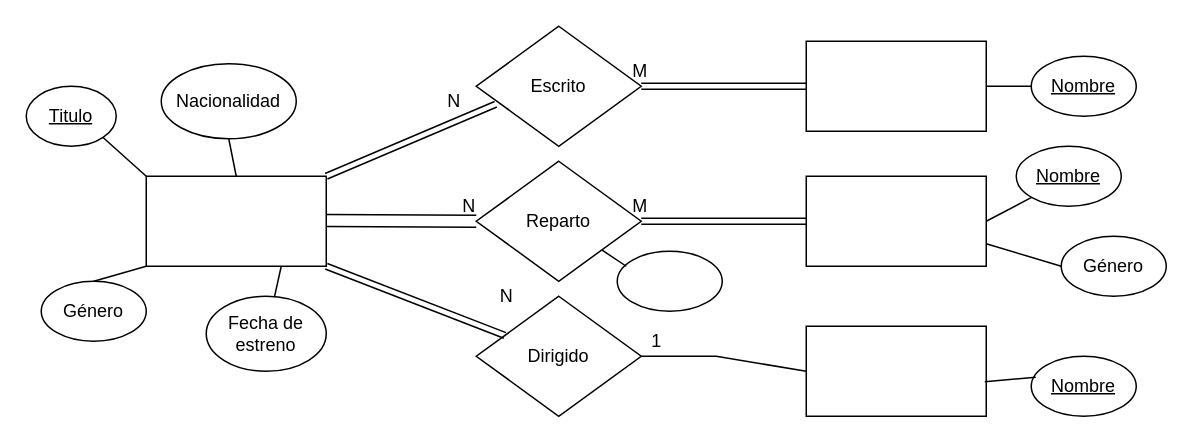
This 1193x443 diagram has some shape labels left out. The shapes that lost their labels are listed below. From the top down, each one's centre as x and y in pixels, then its label:
At (895,85): "GUIONISTAS".
At (235,220): "PELICULAS".
At (895,220): "ACTORES".
At (669,280): "Personaje".
At (895,370): "Directores".
